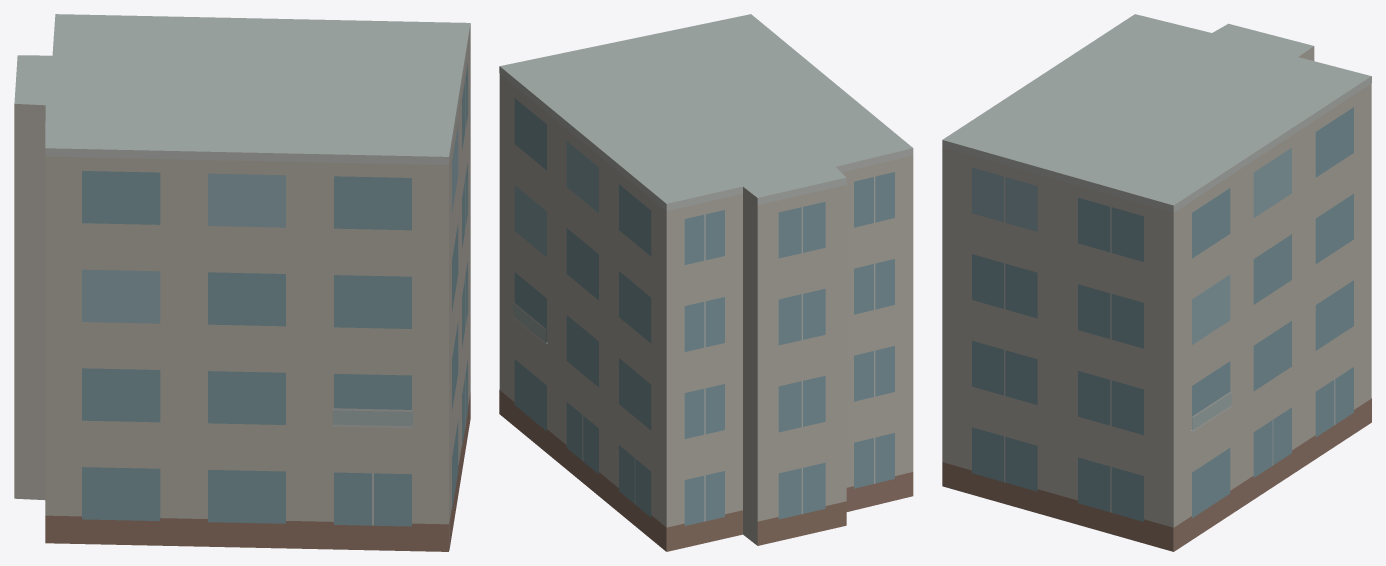
File: survey-upis-32654280.glb
3 renders of one model, left to right at view 1: azimuth 30°, elevation 25°; view 2: azimuth 150°, elevation 25°; view 3: azimuth 270°, elevation 25°, orthographic. The views are drawn at different scales.
Parts seen in each view (by area): view 1: survey-upis-32654280.tmp; view 2: survey-upis-32654280.tmp; view 3: survey-upis-32654280.tmp.
Part boxes in pixels (box(x1,y1,x2,y2)): survey-upis-32654280.tmp: box(14, 14, 470, 551); survey-upis-32654280.tmp: box(499, 14, 913, 551); survey-upis-32654280.tmp: box(942, 14, 1371, 551).
Bounding box in the file's own units: 13.88 × 11.7 × 13.16.
